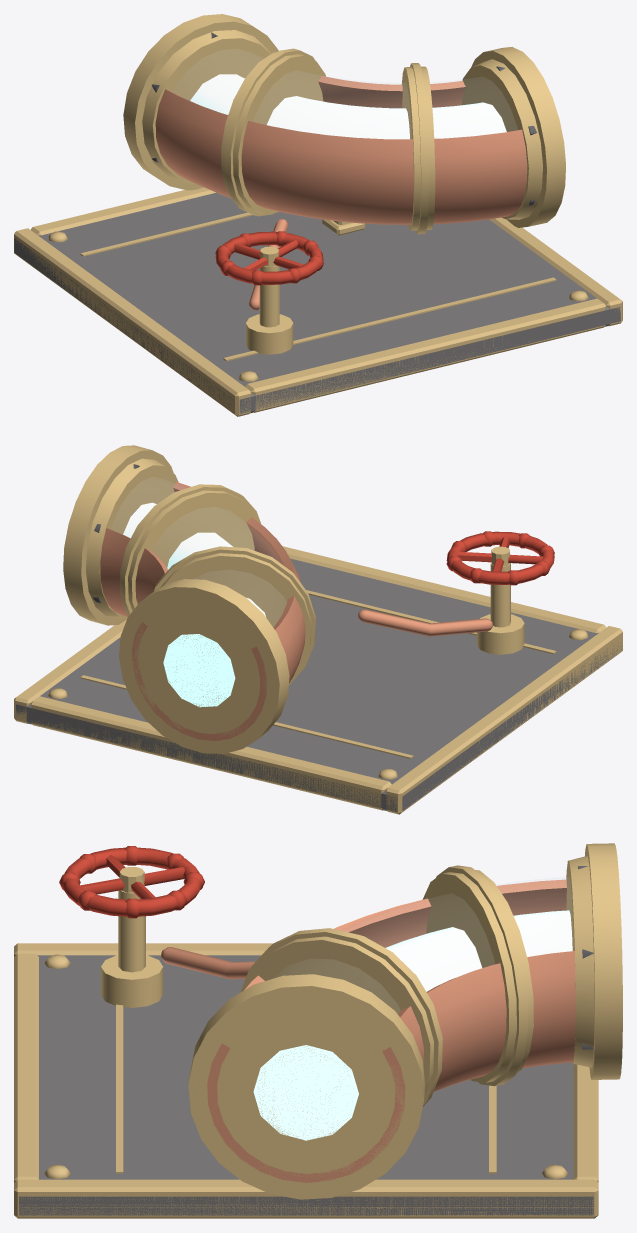
File: pipe_corner.glb
The picture shows the model from 3 angles, top to bottom: view 1: azimuth 30°, elevation 25°; view 2: azimuth 150°, elevation 25°; view 3: azimuth 270°, elevation 25°; orthographic projection. The views are drawn at different scales.
Visible parts, largest first — view 1: pipe_corner, glow_path; view 2: pipe_corner, glow_path; view 3: pipe_corner, glow_path.
Part boxes in pixels (<box>): pipe_corner: <box>14,14,622,416</box>; glow_path: <box>190,74,506,139</box>; pipe_corner: <box>14,445,622,814</box>; glow_path: <box>123,502,265,707</box>; pipe_corner: <box>14,843,622,1218</box>; glow_path: <box>253,910,572,1140</box>.
Bounding box in the file's own units: 0.9793 × 0.4298 × 0.9793.
